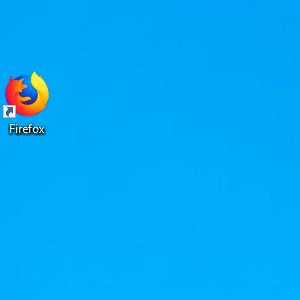firefox: (2, 71, 49, 119)
